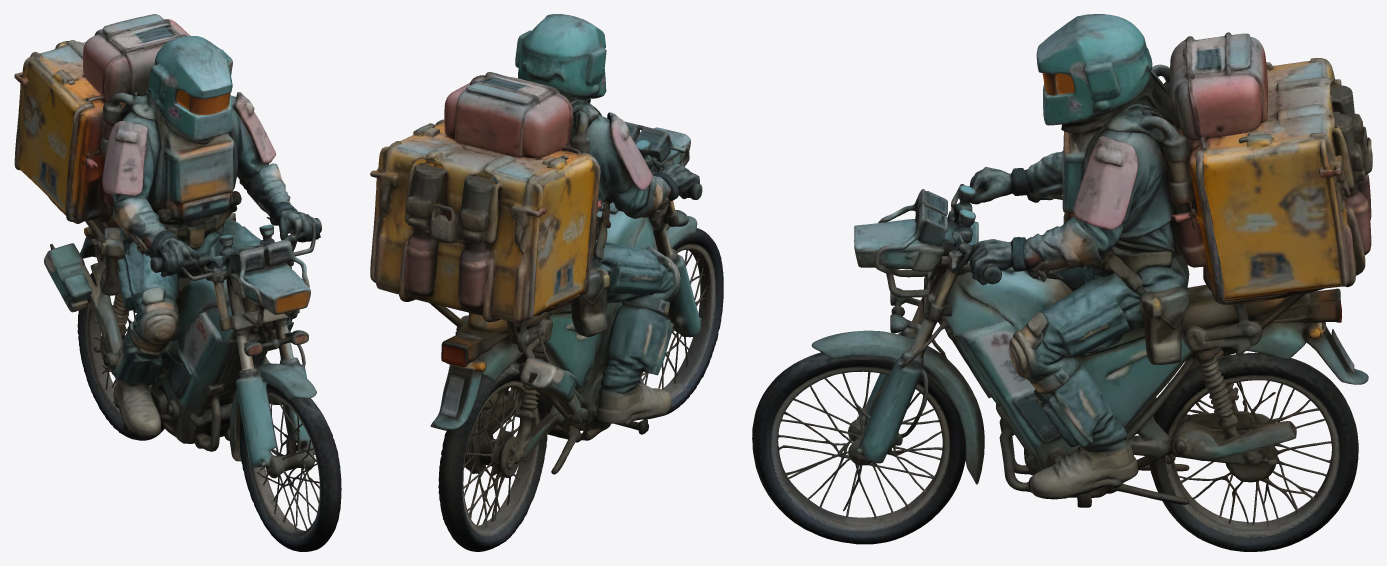
Rendered from biker.glb.
3 views of the same model, side by side, from view 1: azimuth 30°, elevation 25°; view 2: azimuth 150°, elevation 25°; view 3: azimuth 270°, elevation 25° (orthographic). The views are drawn at different scales.
Parts seen in each view (by area): view 1: world; view 2: world; view 3: world.
Part boxes in pixels (<box>): world: <box>14,14,341,551</box>; world: <box>370,14,723,551</box>; world: <box>752,14,1372,551</box>.
Size of the model in its own units: 0.376 by 0.943 by 1.
1 material, 1 textured.
